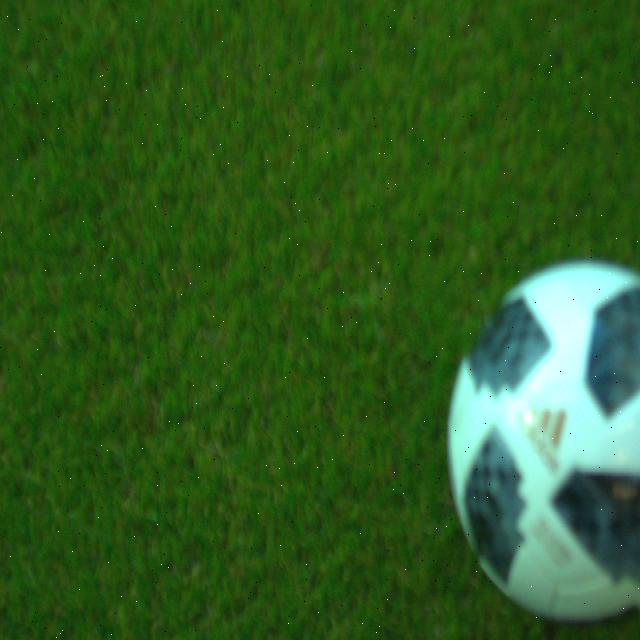ball: (445, 252, 640, 619)
